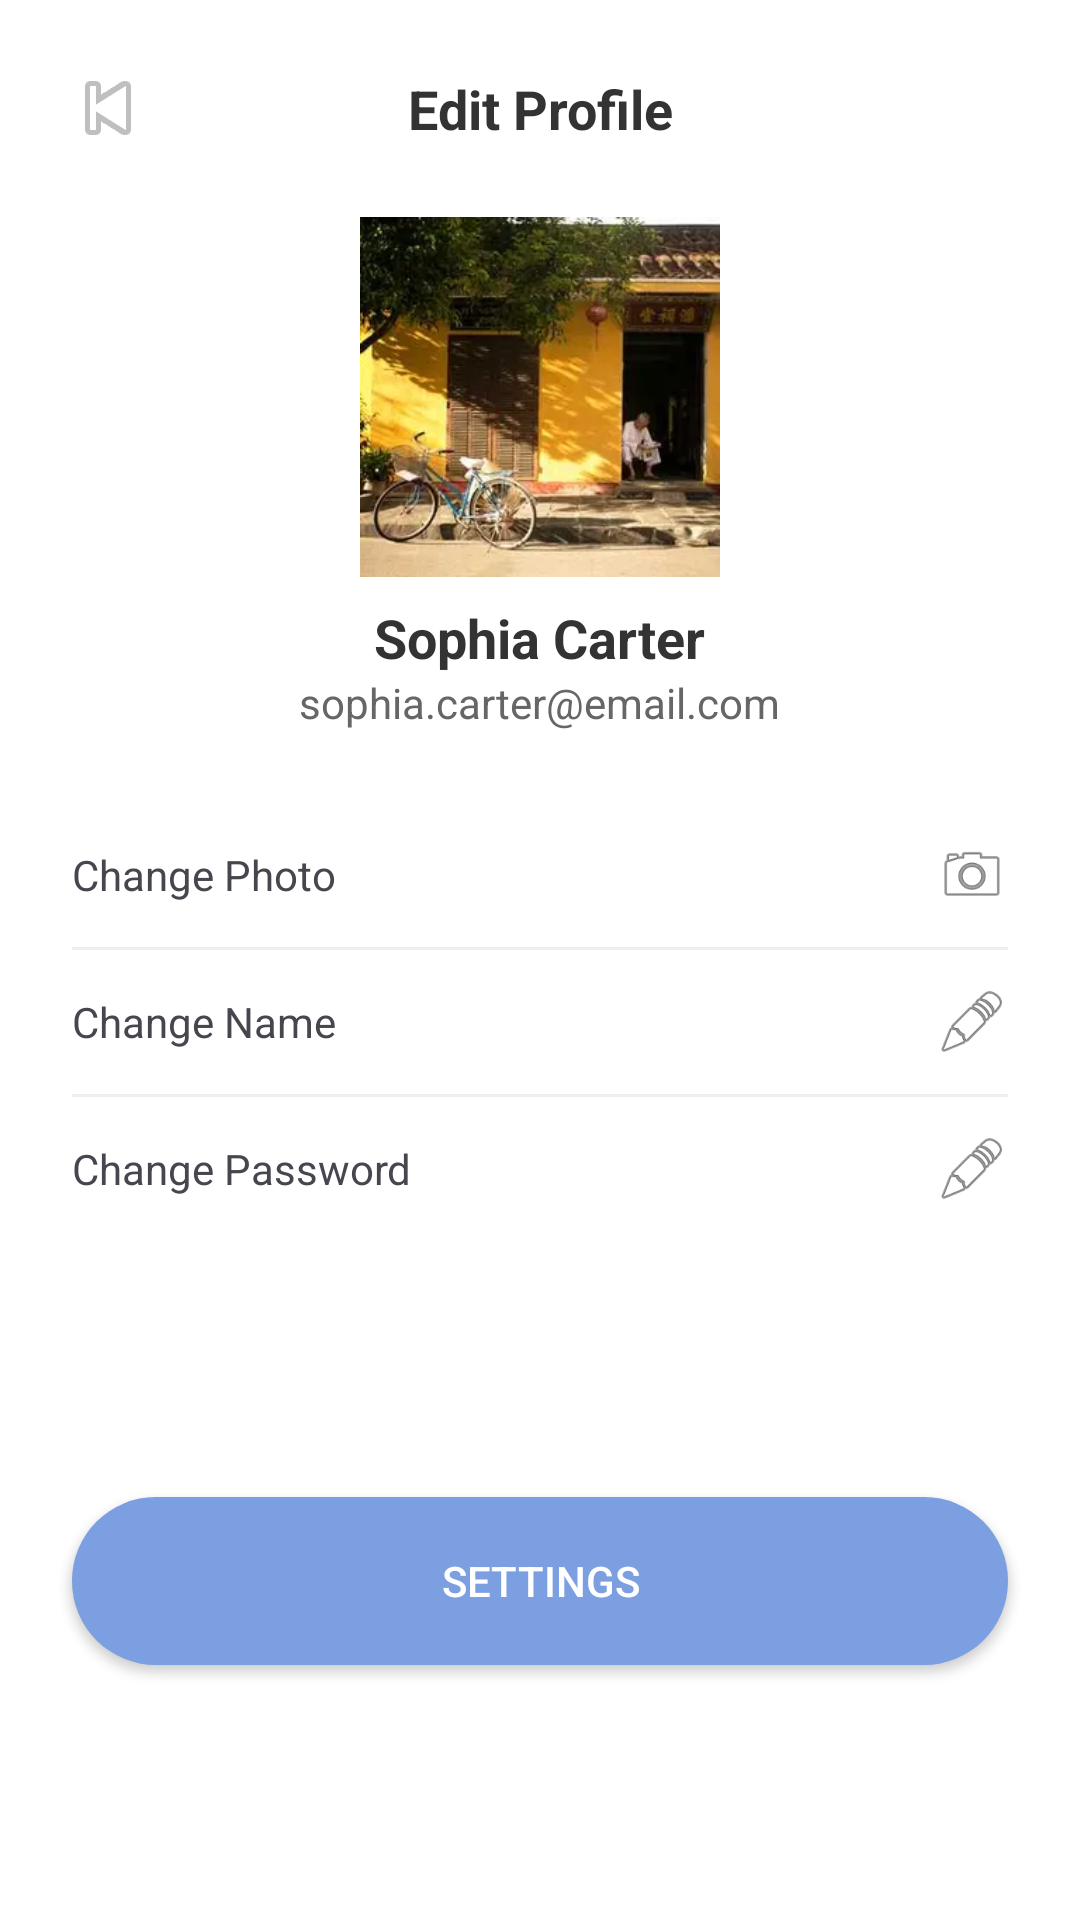

Locate icon controls on the screen. Image size 1080px×1920px, boxes as (x1, y1, x2, y2).
Back: (85, 81, 131, 135)
camera: (944, 852, 1000, 896)
edit: (941, 991, 1002, 1052), (941, 1138, 1002, 1199)
